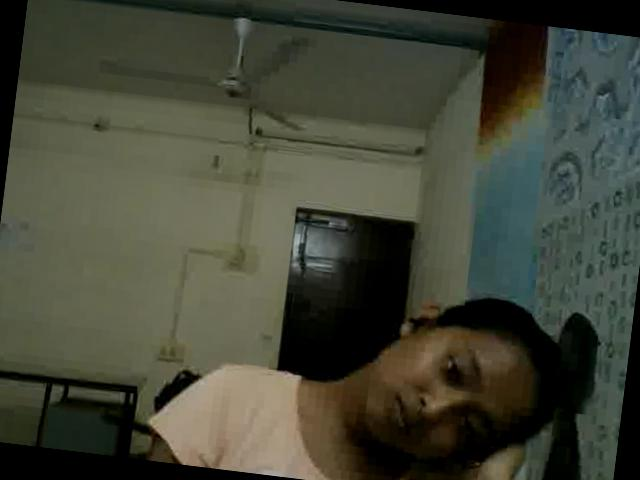bosan: (354, 299, 535, 480)
